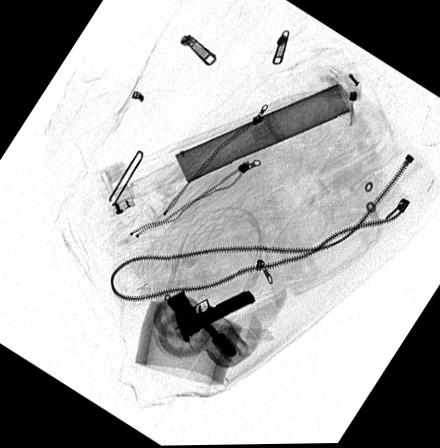Gun: (166, 289, 257, 346)
